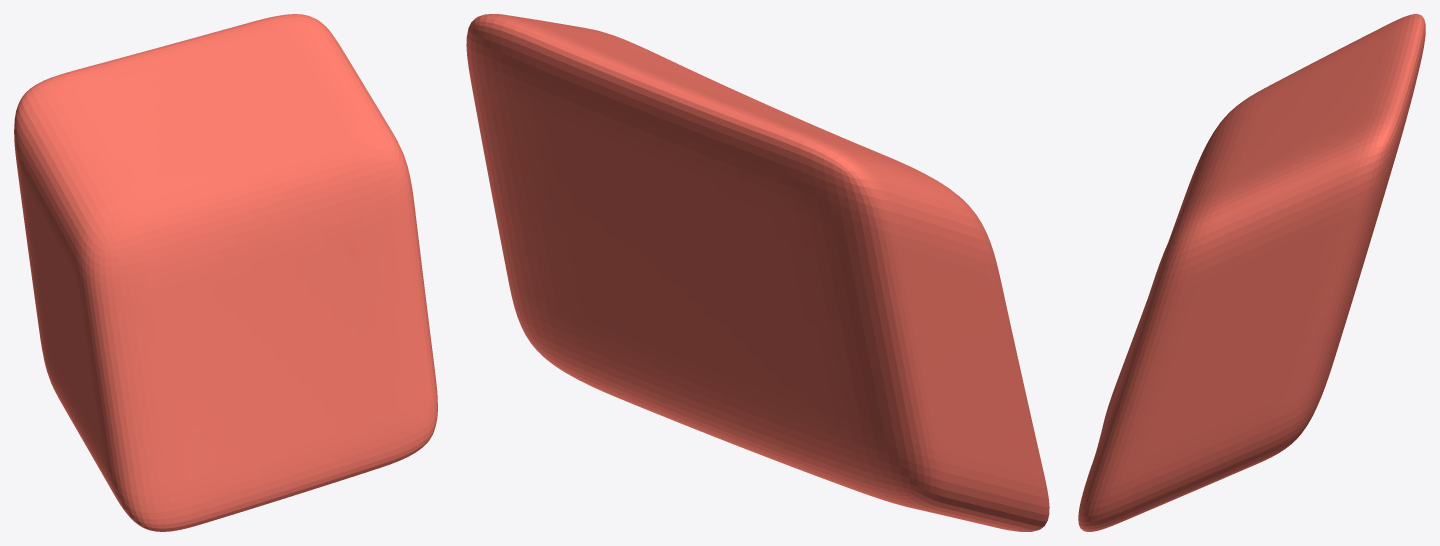
The picture shows the model from 3 angles, left to right: view 1: azimuth 30°, elevation 25°; view 2: azimuth 150°, elevation 25°; view 3: azimuth 270°, elevation 25°; orthographic projection. The views are drawn at different scales.
Visible parts, largest first — view 1: waves_1.064; view 2: waves_1.064; view 3: waves_1.064.
Part boxes in pixels (bbox=[...]): waves_1.064: bbox=[14, 14, 437, 531]; waves_1.064: bbox=[466, 14, 1049, 531]; waves_1.064: bbox=[1078, 14, 1425, 531].
Size of the model in its own units: 30.39 by 34.96 by 24.89.
